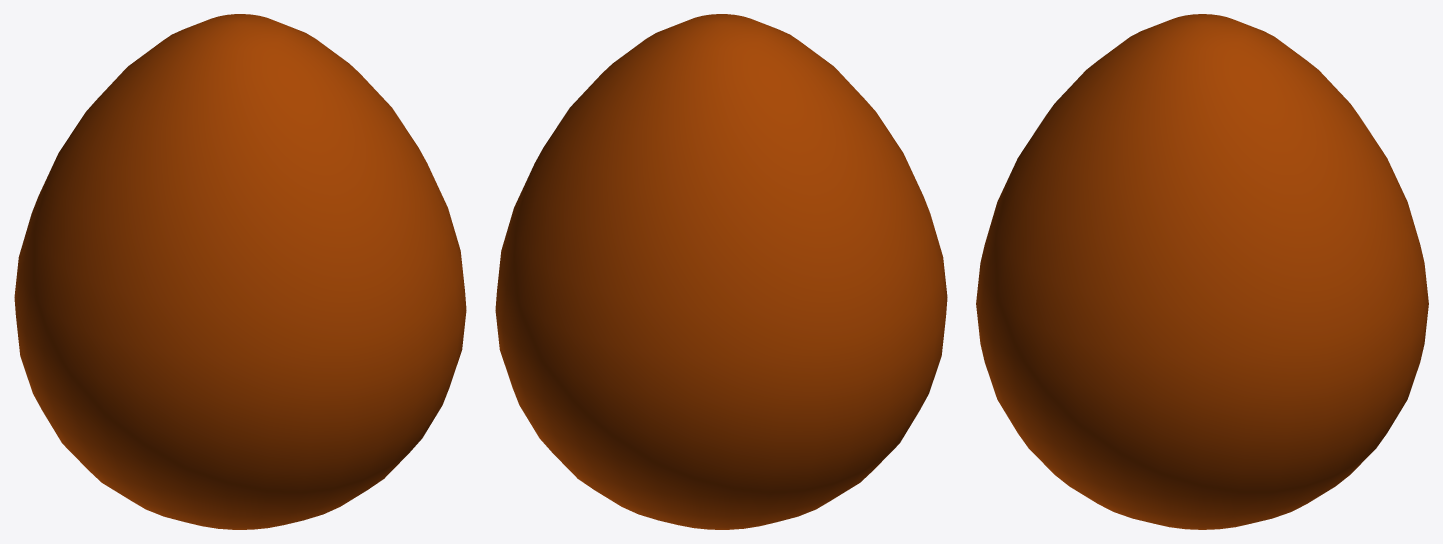
The model's file is egg.glb.
The picture shows the model from 3 angles, left to right: view 1: azimuth 30°, elevation 25°; view 2: azimuth 150°, elevation 25°; view 3: azimuth 270°, elevation 25°; orthographic projection.
Parts seen in each view (by area): view 1: Sphere_0; view 2: Sphere_0; view 3: Sphere_0.
Boxes of the visible parts, x1=… form: Sphere_0: x1=14, y1=14, x2=466, y2=529; Sphere_0: x1=495, y1=14, x2=947, y2=529; Sphere_0: x1=976, y1=14, x2=1428, y2=529.
Bounding box in the file's own units: 2 × 2.37 × 2.
